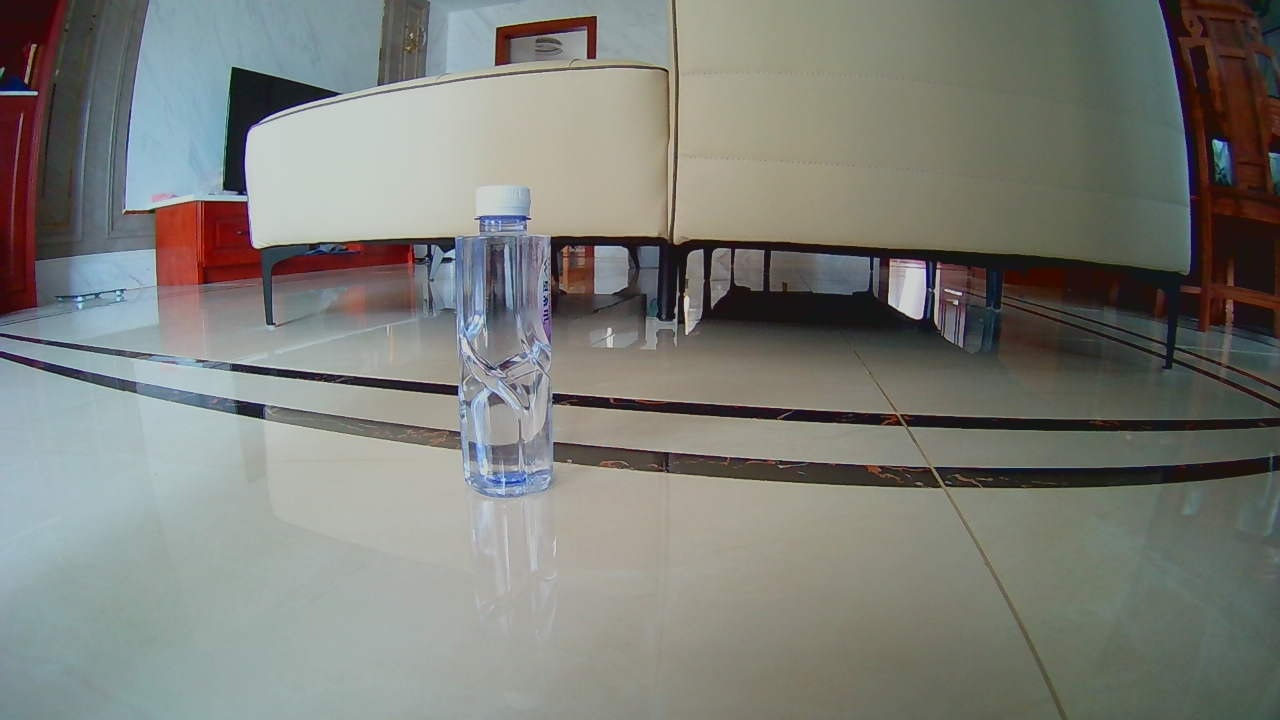water: (449, 187, 555, 496)
